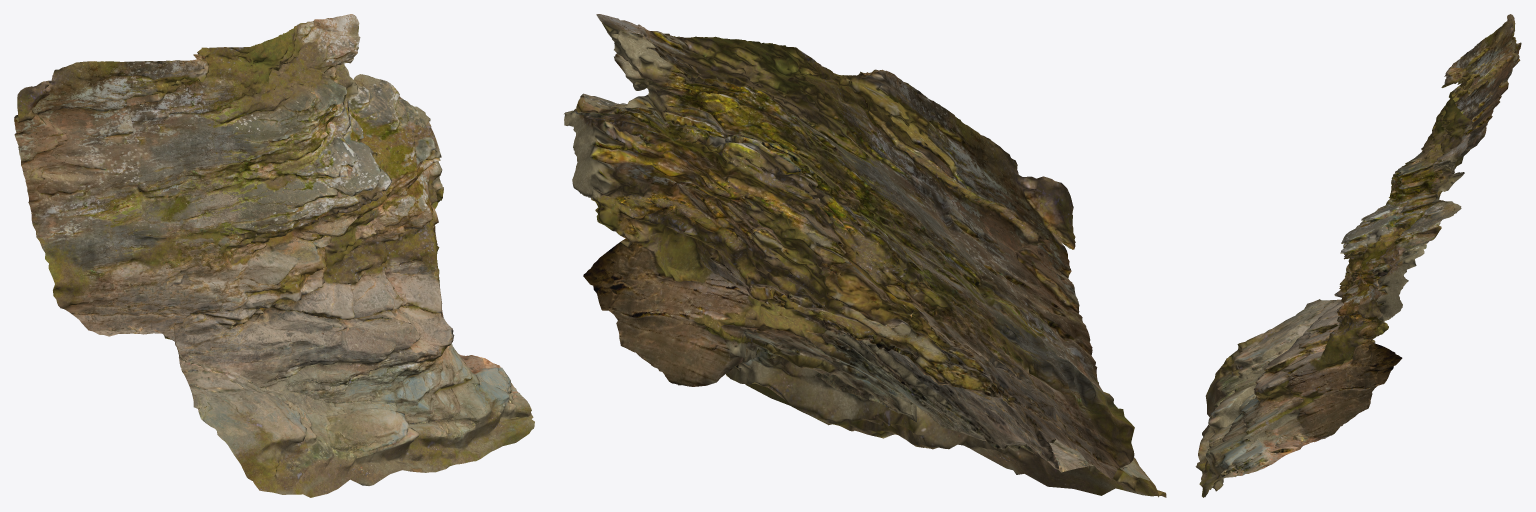
File: rock_face_02.glb
3 renders of one model, left to right at view 1: azimuth 30°, elevation 25°; view 2: azimuth 150°, elevation 25°; view 3: azimuth 270°, elevation 25°, orthographic. The views are drawn at different scales.
Visible parts, largest first — view 1: rock_face_02; view 2: rock_face_02; view 3: rock_face_02.
Boxes of the visible parts, x1,y1,x2,y2 form: rock_face_02: [14, 14, 534, 497]; rock_face_02: [564, 14, 1166, 497]; rock_face_02: [1195, 14, 1521, 497].
Bounding box in the file's own units: 2.71 × 2.47 × 2.13.
Materials: 1 (1 with a texture image).
